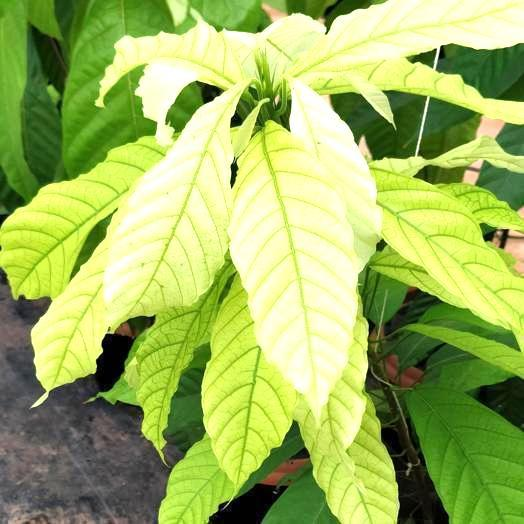Iron: (228, 121, 357, 420), (104, 82, 246, 325), (0, 137, 163, 297), (374, 171, 523, 342), (292, 0, 523, 78), (95, 20, 244, 106)
